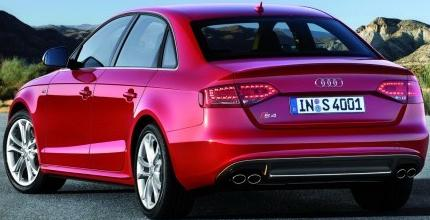back_view: (185, 59, 429, 186)
backlight: (194, 77, 283, 113)
side_glass: (72, 10, 177, 70)
